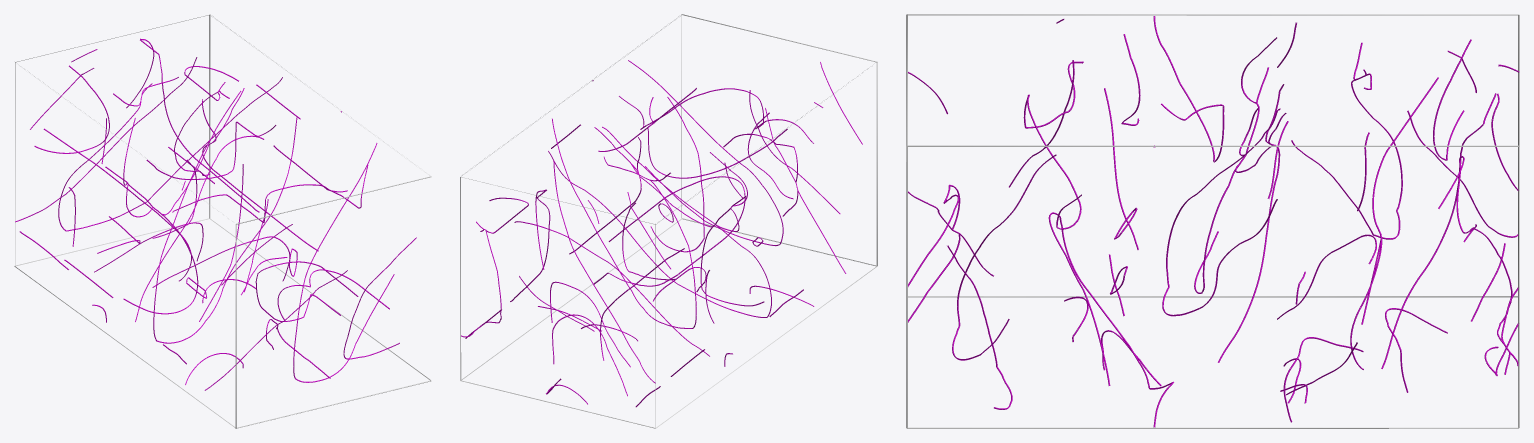
3 renders of one model, left to right at view 1: azimuth 30°, elevation 25°; view 2: azimuth 150°, elevation 25°; view 3: azimuth 270°, elevation 25°, orthographic. The views are drawn at different scales.
Parts seen in each view (by area): view 1: Shape_IndexedLineSet.001, Shape_IndexedLineSet; view 2: Shape_IndexedLineSet.001, Shape_IndexedLineSet; view 3: Shape_IndexedLineSet.001, Shape_IndexedLineSet.
Part boxes in pixels (x1,y1,x2,y2): Shape_IndexedLineSet.001: (15,38,416,390); Shape_IndexedLineSet: (14,14,431,428); Shape_IndexedLineSet.001: (461,60,862,407); Shape_IndexedLineSet: (460,14,877,428); Shape_IndexedLineSet.001: (908,16,1518,427); Shape_IndexedLineSet: (906,14,1519,428).
Bounding box in the file's own units: 235 × 235 × 461.
